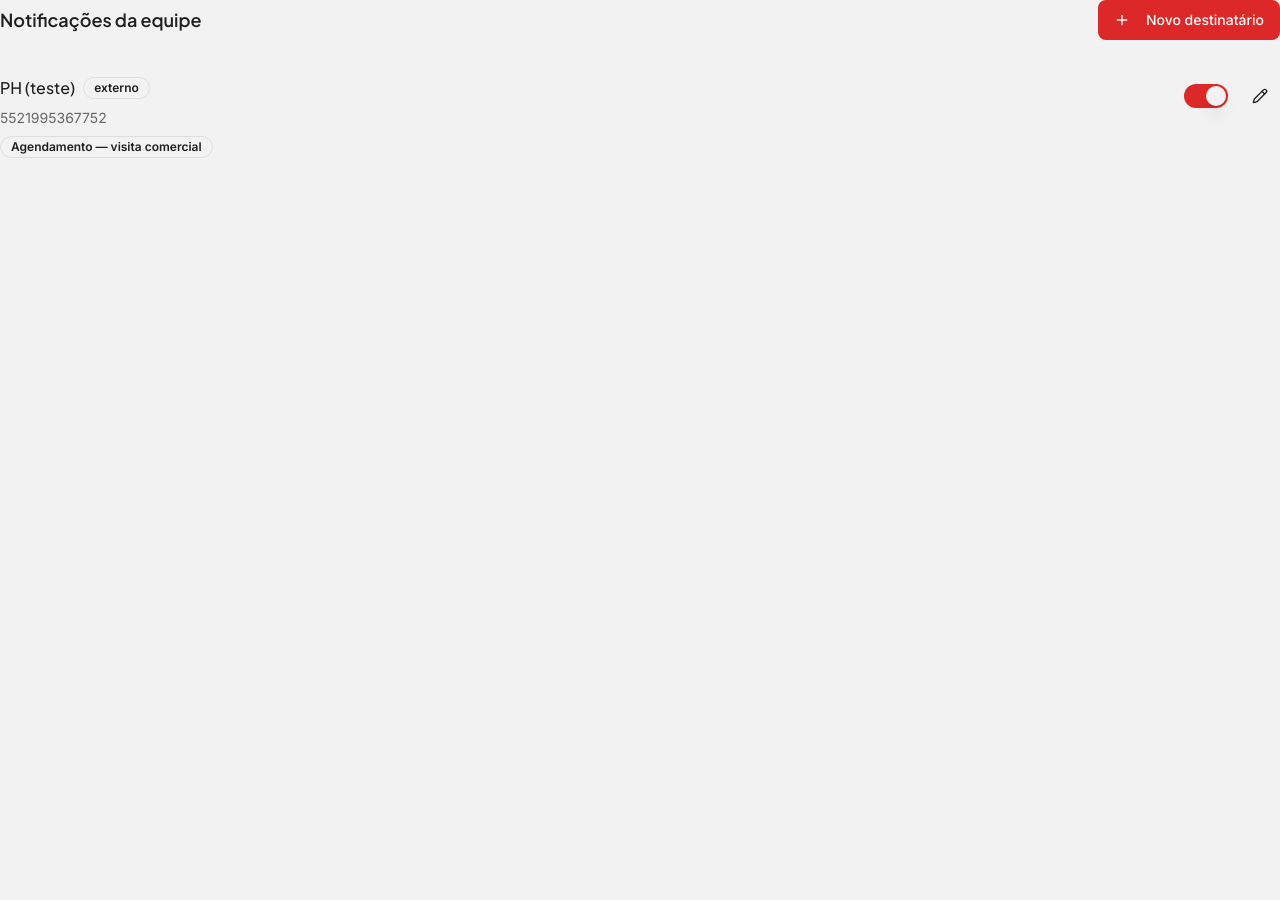
Team recipient management › edits an existing recipient and toggles active state
This screenshot has width=1280, height=900.
Later steps or results of the test are not shown.
Click the switch named "Ativar PH (teste)". click: (1206, 96)
box: x1=1184 y1=84 x2=1228 y2=108
Click the button named "Editar PH (teste)". click: (1260, 96)
box: x1=1240 y1=76 x2=1279 y2=116
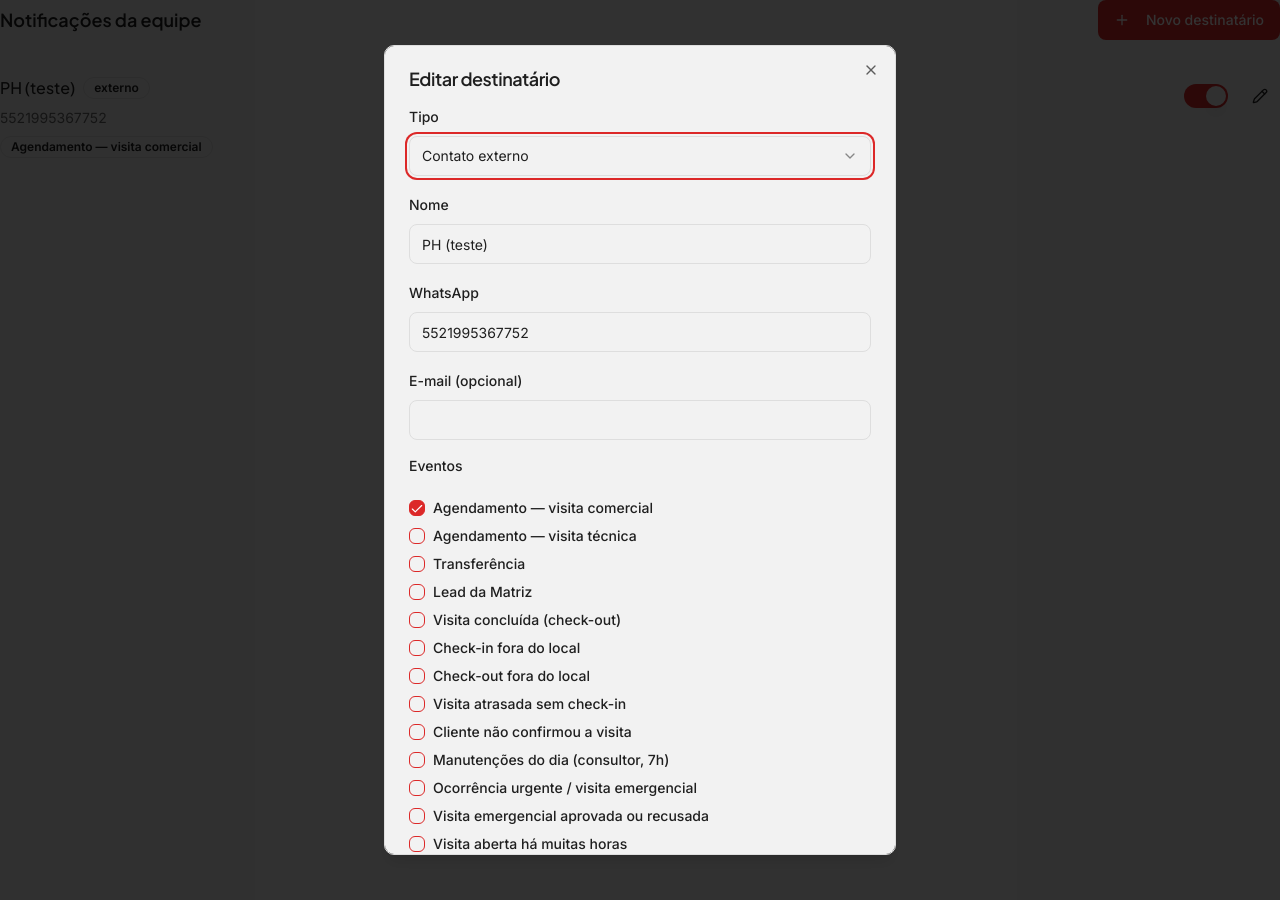
expect the field labelled "Nome" holds "PH (teste)": met, box x1=409 y1=224 x2=871 y2=264
